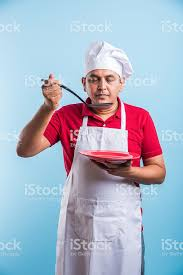Indian_Male: (84, 66, 124, 105)
